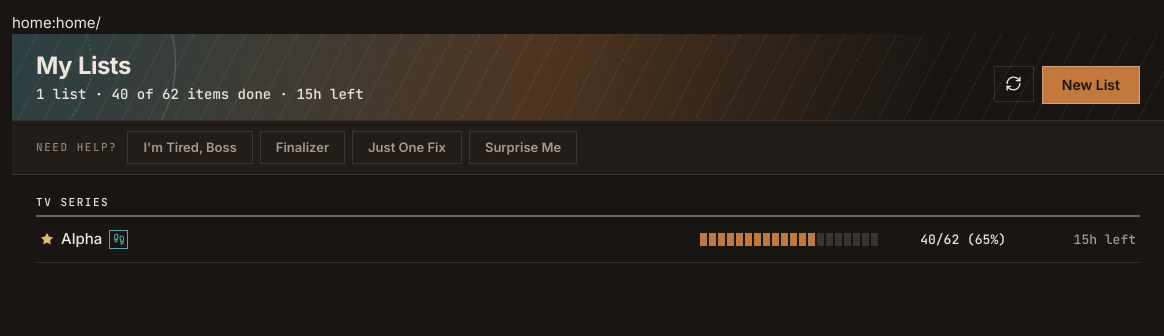
Scenario: Home updates (task 10.22c) › the Check for updates button › brings back an update that was dismissed: an explicit check shows everything available
The image size is (1164, 336).
expect the text "Alpha" is shown: met, box 61,230 -> 102,249
Step 1. Click the button named "Check for updates" → (1014, 84), box 994,66 -> 1034,102
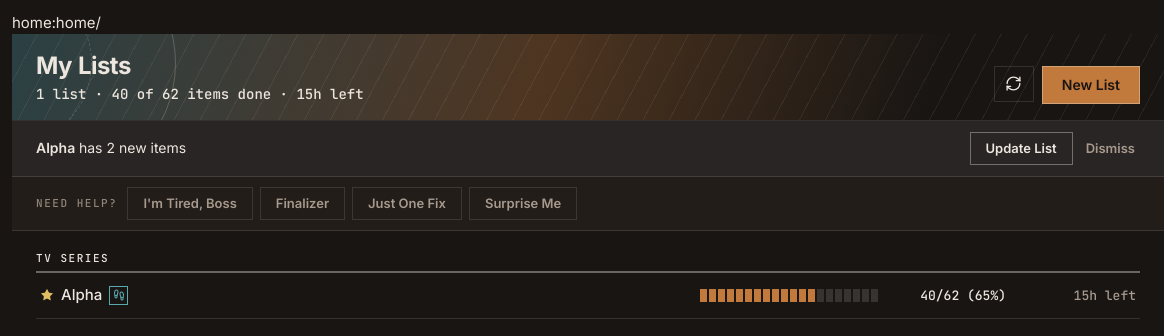
expect the element showing "Alpha has 2 new items Update List Dismiss" is shown: met, box 12,121 -> 1163,177
Step 2. Click the button "Dismiss" → (1110, 148), box 1081,134 -> 1140,163
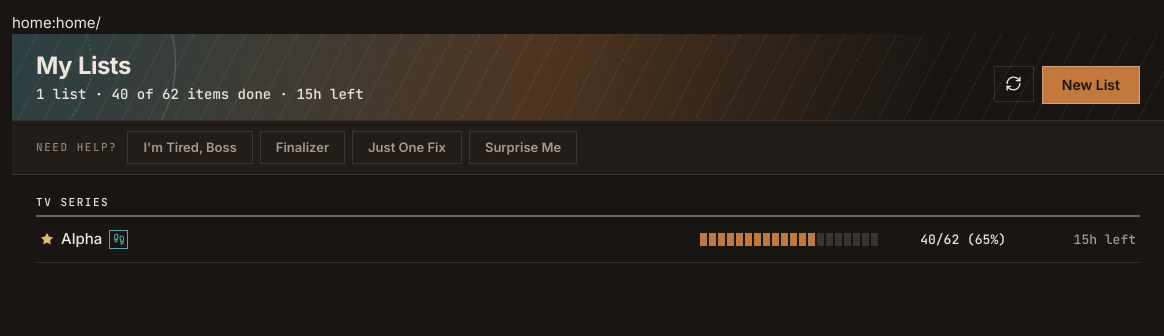
Step 3. Click the button named "Check for updates" → (1014, 84), box 994,66 -> 1034,102
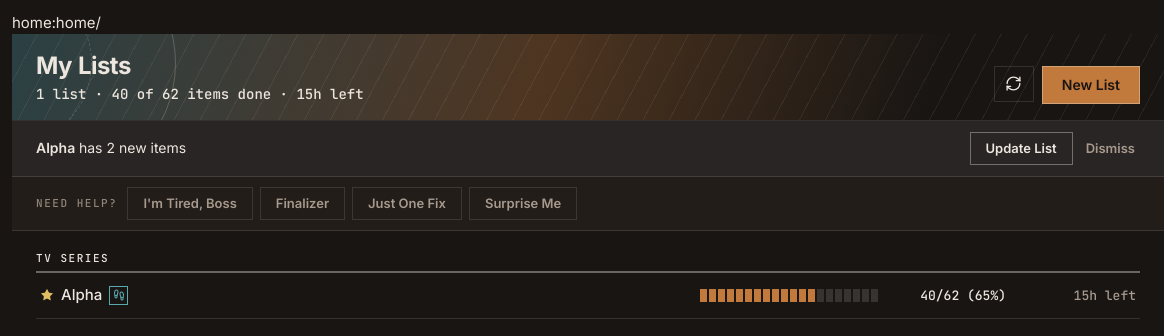
expect the element showing "Alpha has 2 new items Update List Dismiss" is shown: met, box 12,121 -> 1163,177
